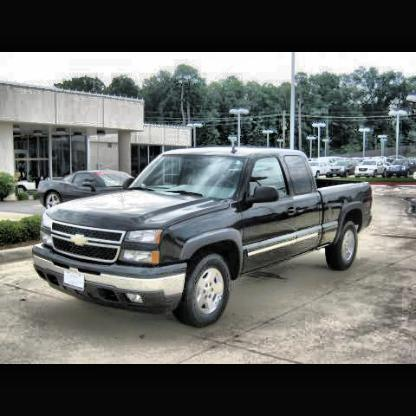Chevrolet Silverado 1500 Classic Extended Cab 2007: (31, 144, 376, 332)
